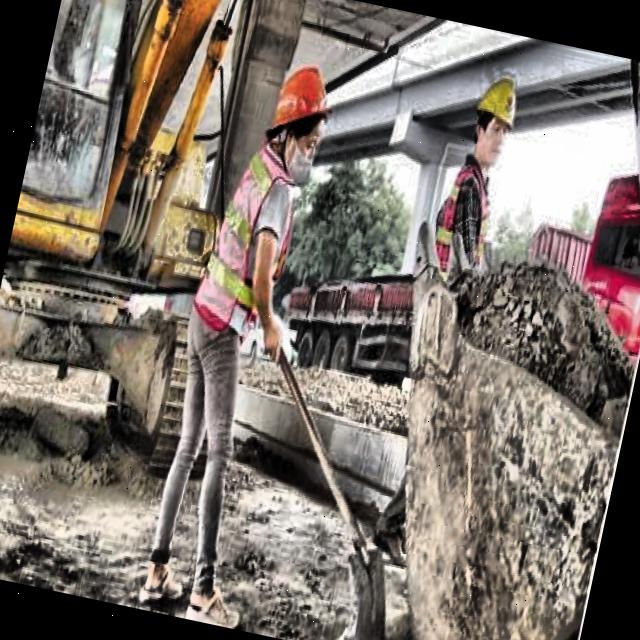helmet: (254, 50, 342, 190), (460, 60, 528, 180)
